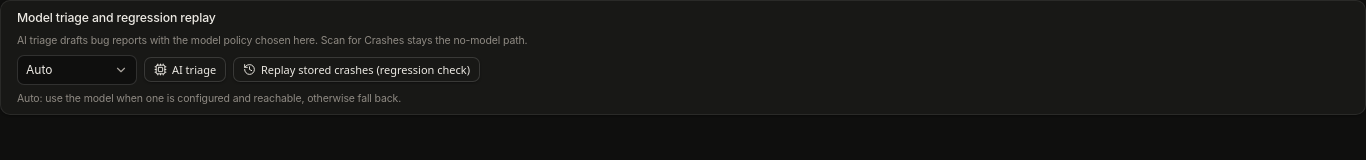
it: says so when there are no stored crashes and keeps the buttons off without a target
Click the button "Replay stored crashes (regression check)". click: coordinates (356, 70)
box: [233,57,480,82]
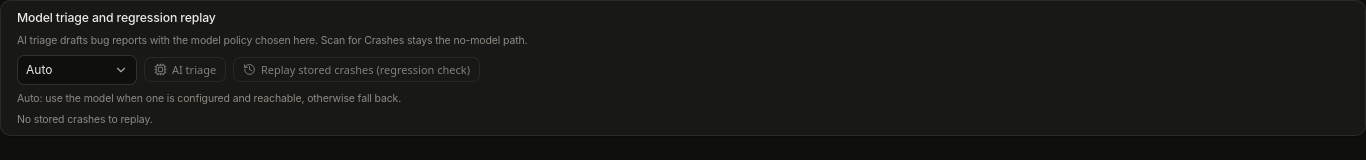
Now the text "No stored crashes to replay." is shown, box [17,112,153,126]
Now the button "AI triage" is disabled, box [144,57,226,82]
